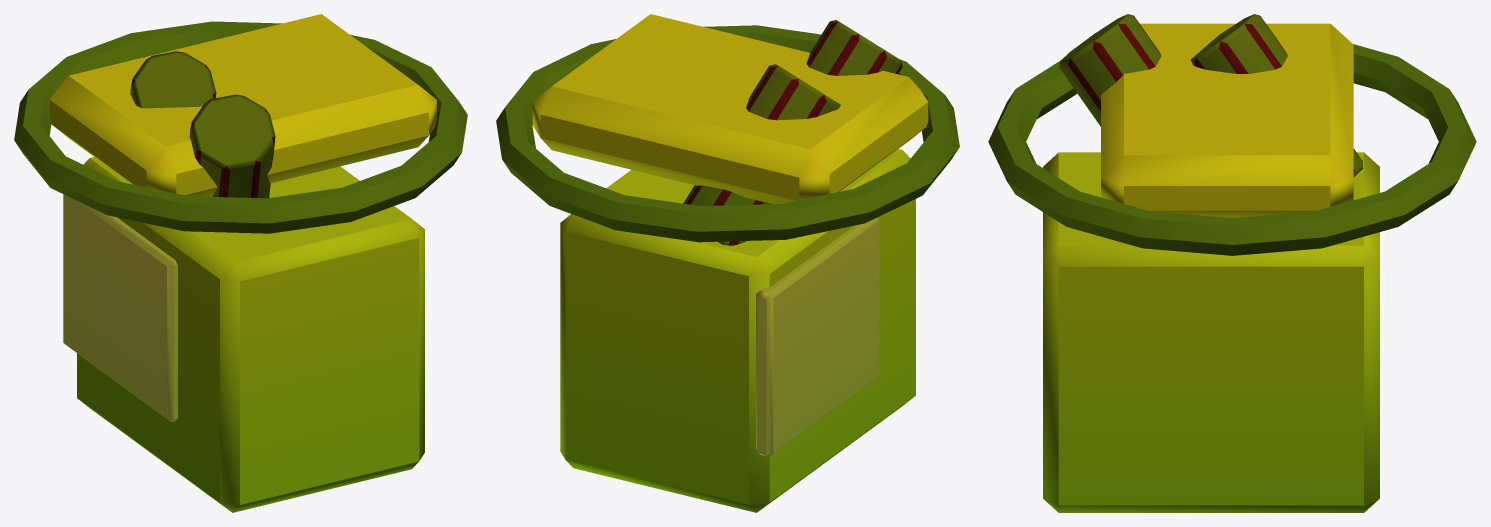
Rendered from RCLModule_skyguard_sam_solar_flare_radiation_shield.fbx.
3 views of the same model, side by side, from view 1: azimuth 30°, elevation 25°; view 2: azimuth 150°, elevation 25°; view 3: azimuth 270°, elevation 25° (orthographic). The views are drawn at different scales.
Visible parts, largest first — view 1: RCLModule_skyguard_sam_solar_flare_radiation_shield_Batch_RC (×3); view 2: RCLModule_skyguard_sam_solar_flare_radiation_shield_Batch_RC (×3); view 3: RCLModule_skyguard_sam_solar_flare_radiation_shield_Batch_RC (×2).
Part boxes in pixels (x1,y1,x2,y2): RCLModule_skyguard_sam_solar_flare_radiation_shield_Batch_RC (×3): (14, 14, 467, 512); RCLModule_skyguard_sam_solar_flare_radiation_shield_Batch_RC (×3): (496, 14, 959, 512); RCLModule_skyguard_sam_solar_flare_radiation_shield_Batch_RC (×2): (988, 14, 1476, 512).
Bounding box in the file's own units: 46.4 × 43.39 × 46.4.
